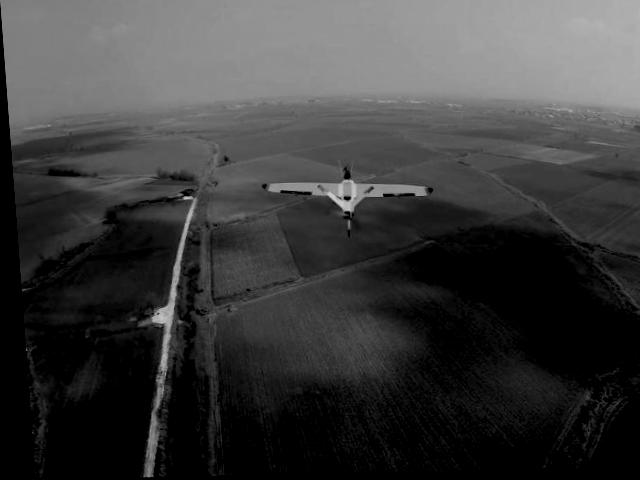hedef: (237, 130, 447, 265)
